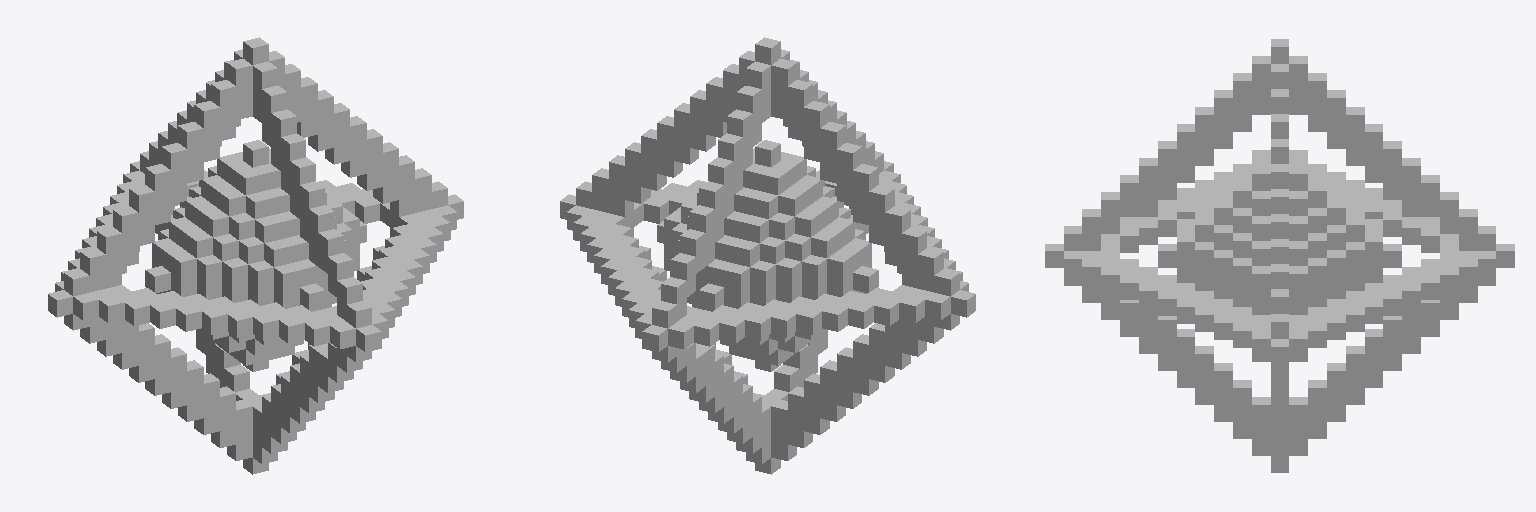
Rendered from pylon.obj.
3 views of the same model, side by side, from view 1: azimuth 30°, elevation 25°; view 2: azimuth 150°, elevation 25°; view 3: azimuth 270°, elevation 25° (orthographic).
Bounding box in the file's own units: 1 × 1 × 1.